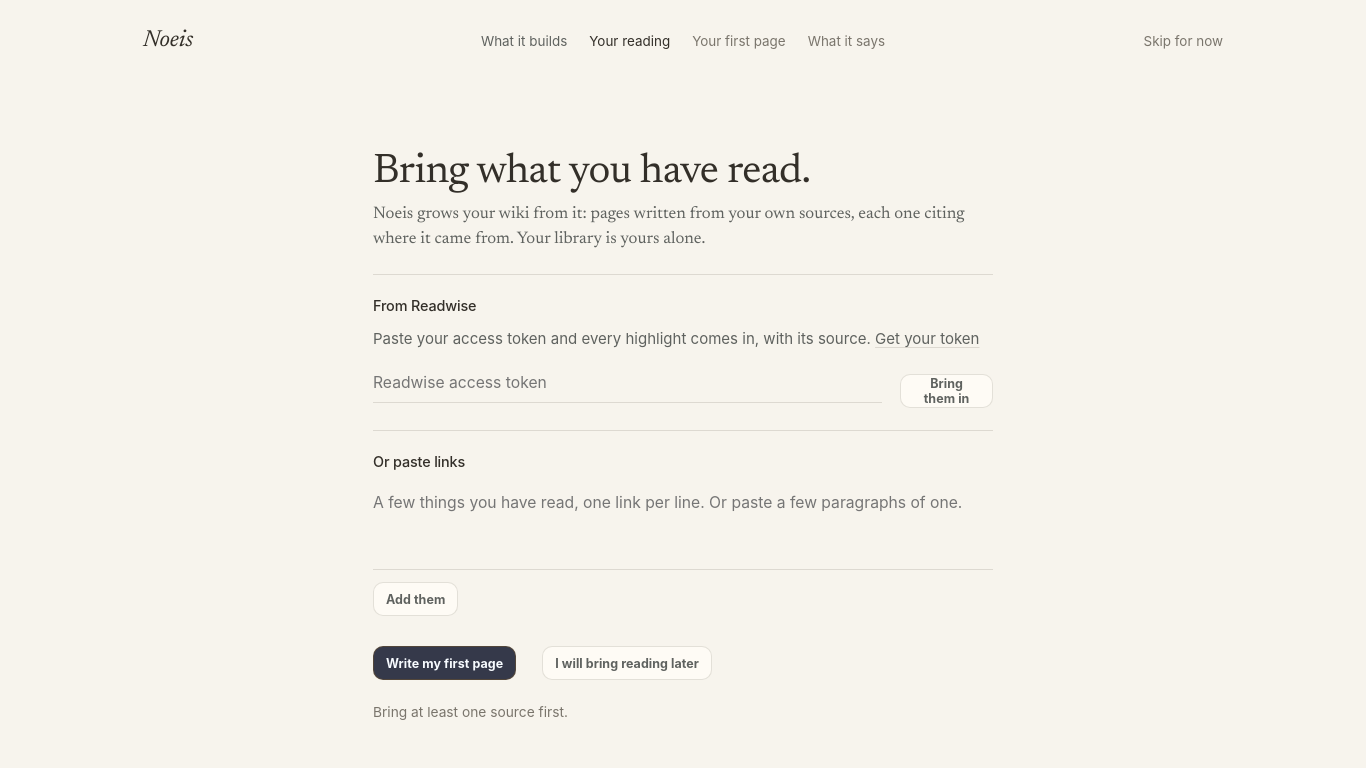
it: Welcome › brings a Readwise library in from a pasted token and says what came
In the field labelled "Readwise access token": coordinates (628, 383) [373, 363, 882, 403], type " tok-123 "
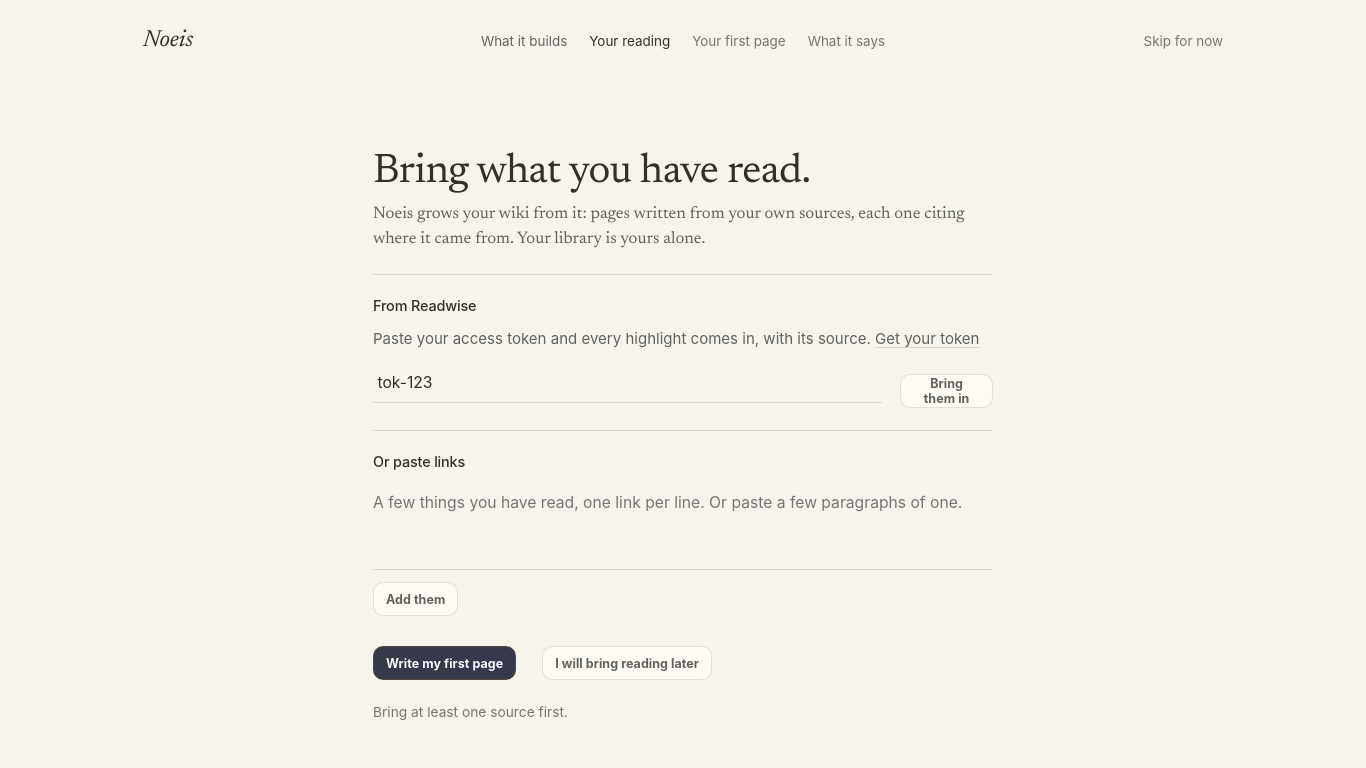
Click the button "Bring them in": coordinates (947, 390) [900, 374, 993, 408]
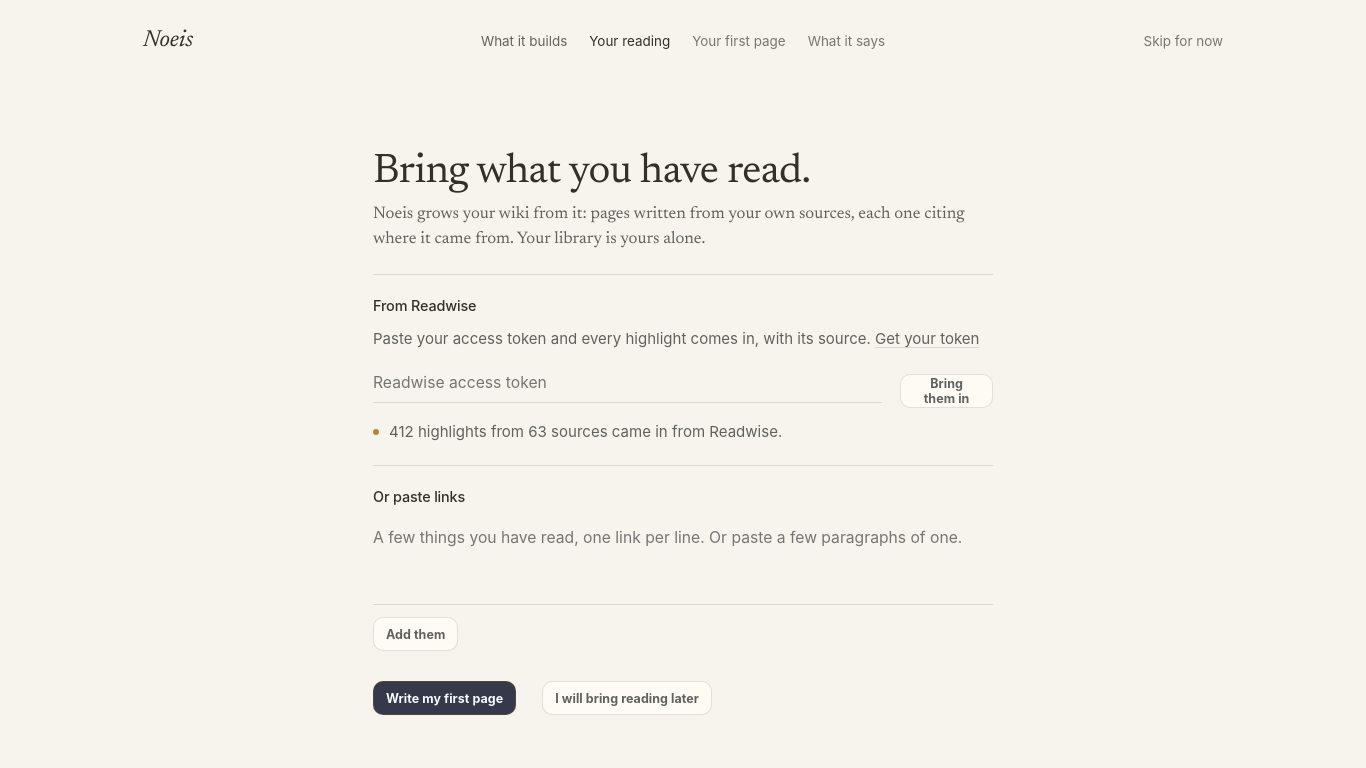
Check: the text "412 highlights from 63 sources came in from Readwise." is shown, box [389, 422, 782, 441]
Check: the button "Write my first page" is enabled, box [373, 681, 516, 715]
